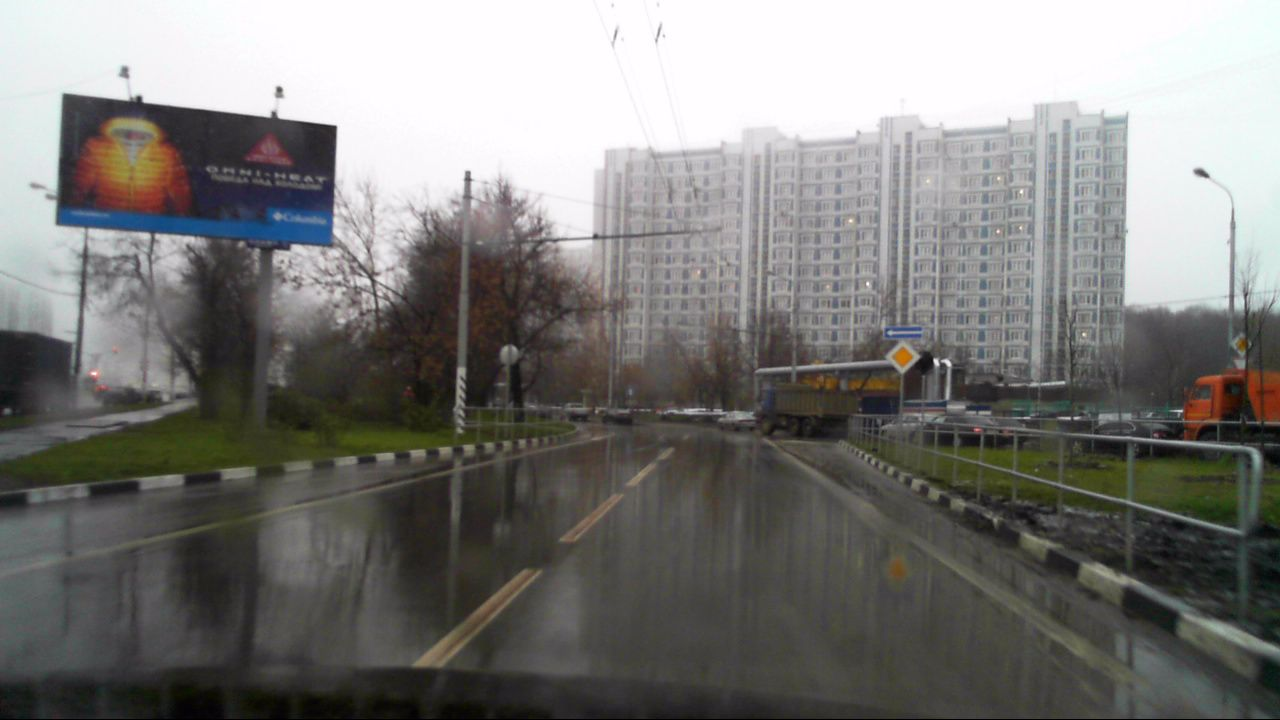main road: (1229, 332, 1252, 356)
